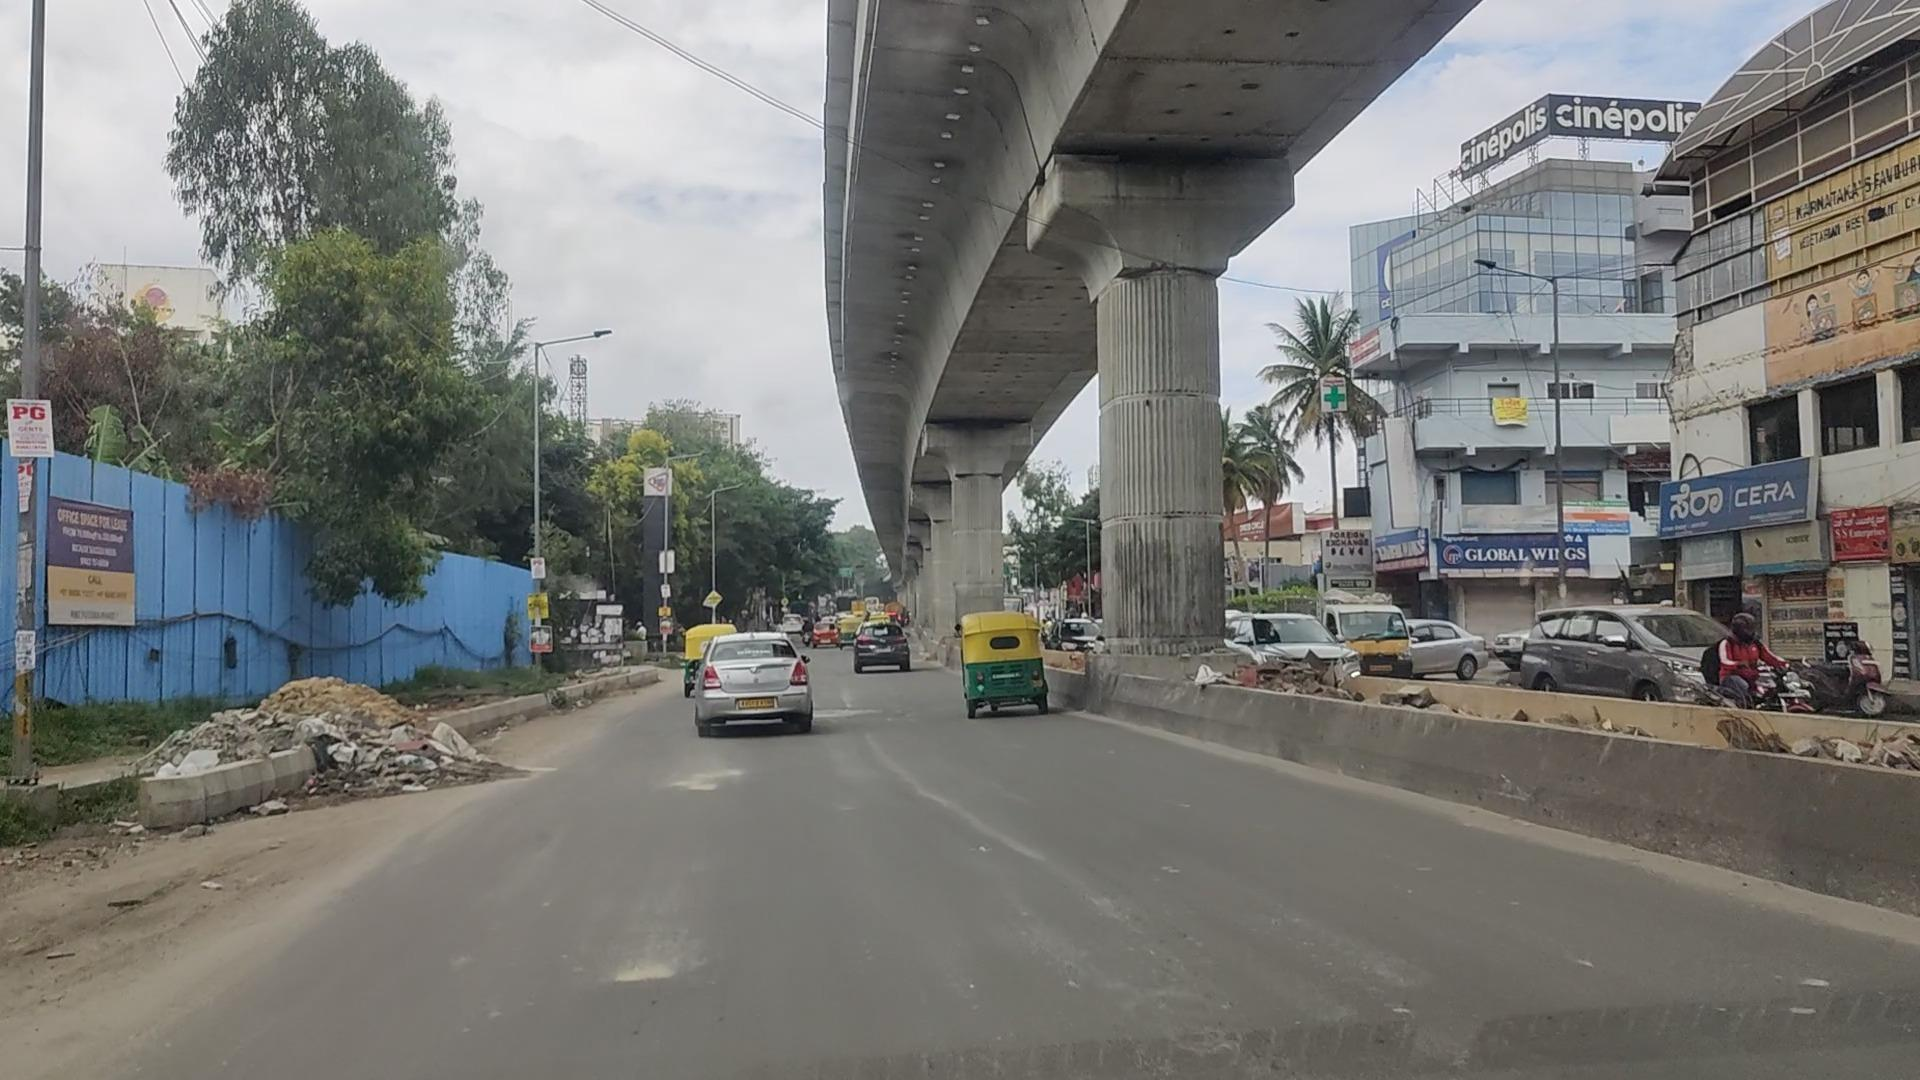LMV: (687, 620, 822, 750), (942, 613, 1038, 724)
